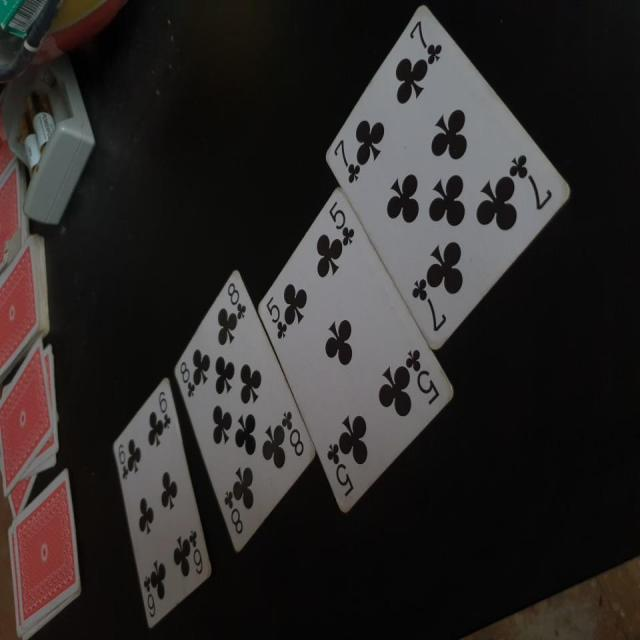5 Trefoils: (257, 188, 456, 516)
6 Trefoils: (112, 375, 214, 629)
7 Trefoils: (325, 3, 572, 353)
8 Trefoils: (175, 265, 314, 555)
